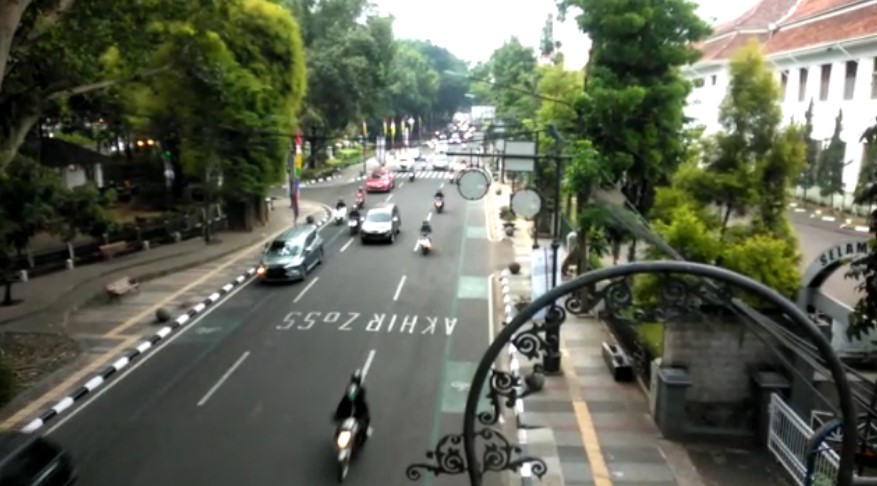mobil: (258, 225, 329, 287), (359, 203, 402, 242)
motor: (329, 367, 375, 475), (417, 220, 437, 248), (344, 205, 359, 234), (429, 188, 449, 209), (330, 198, 346, 222)
